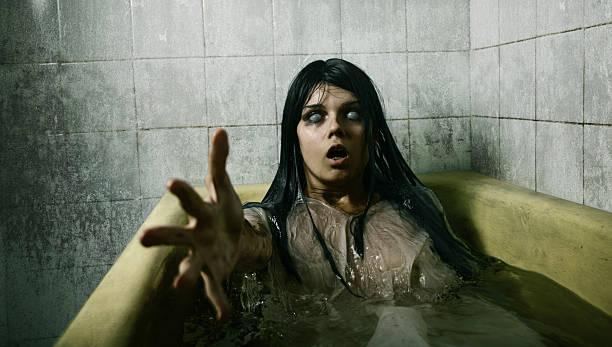Zombie: (288, 75, 385, 189)
